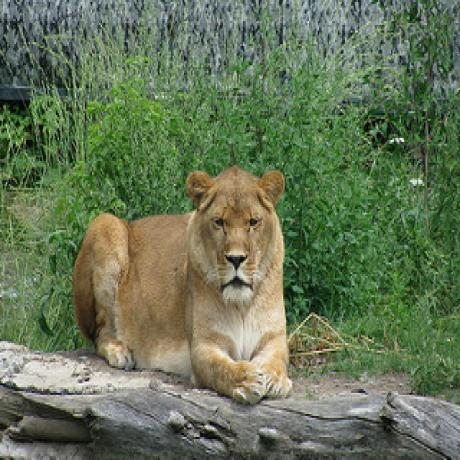Lion: (69, 151, 300, 406)
